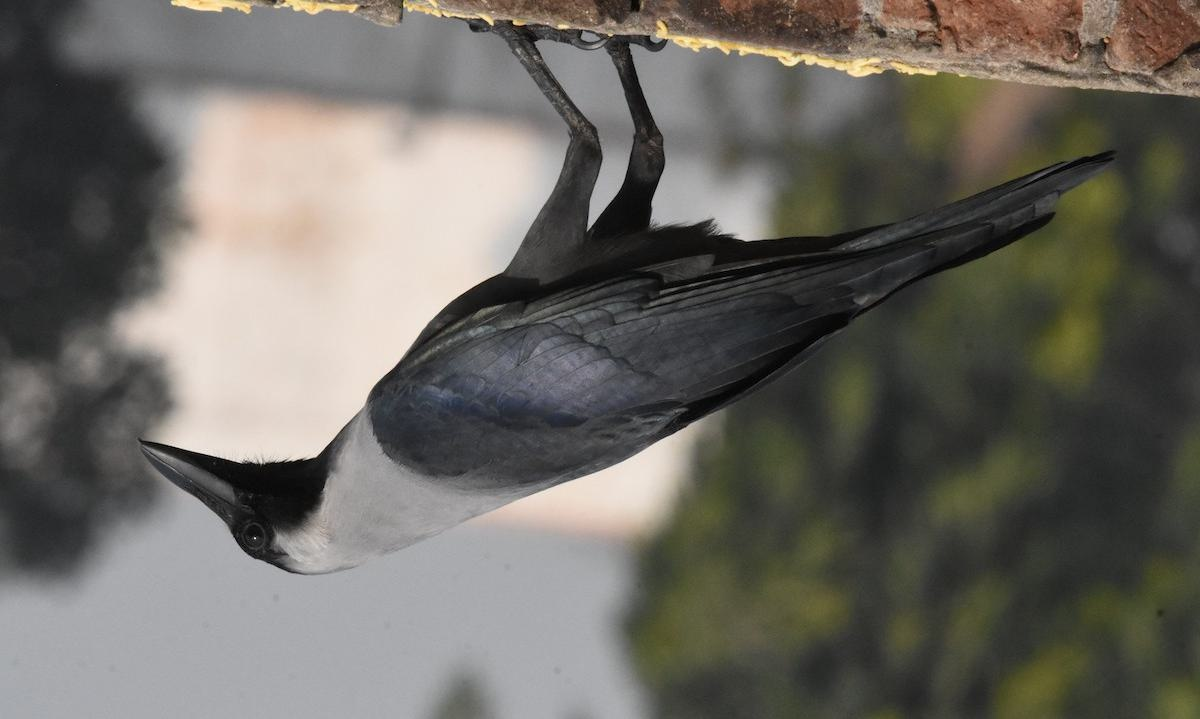crow: (120, 39, 1118, 590)
